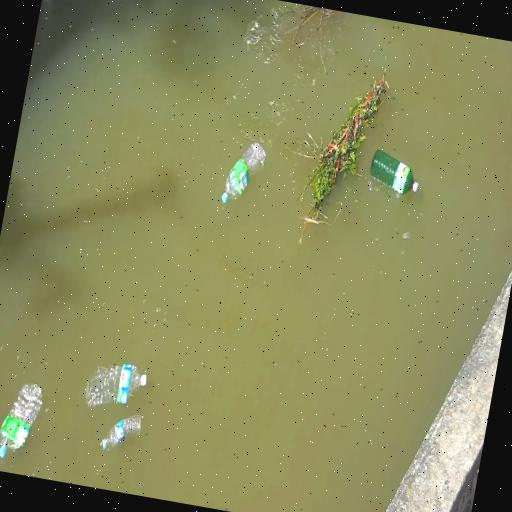plastic: (84, 350, 154, 418), (221, 130, 269, 215), (362, 142, 422, 206), (0, 373, 43, 460), (88, 408, 150, 464)
twig: (290, 71, 384, 236), (284, 2, 334, 42)
